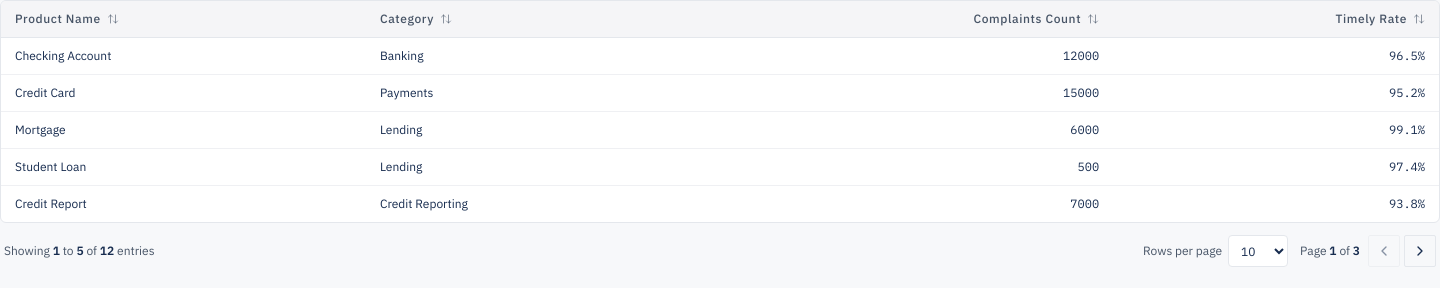
Day 4: DataTable Component › handles pagination navigation and disables buttons at boundaries
expect the button named "Go to previous page" is disabled: met, box [1368, 235, 1400, 267]
expect the element with test id "table-pagination-summary" reads "Showing 1 to 5 of 12 entries": met, box [4, 243, 154, 259]
# Go to page 2
Click the button named "Go to next page" at (1420, 251), box [1404, 235, 1436, 267]
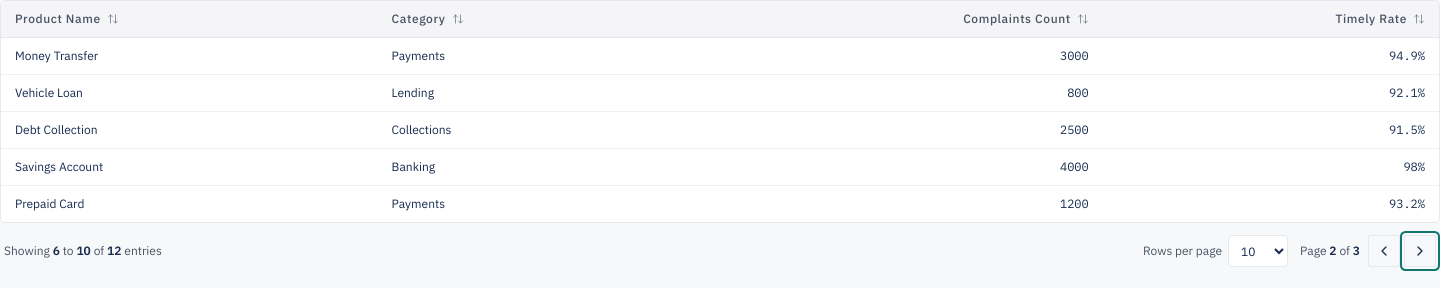
expect the button named "Go to previous page" is enabled: met, box [1368, 235, 1400, 267]
expect the element with test id "table-pagination-summary" reads "Showing 6 to 10 of 12 entries": met, box [4, 243, 162, 259]
expect the text "Money Transfer" is shown: met, box [1, 38, 378, 74]
# Go to page 3 (last page with 2 records)
Click the button named "Go to next page" at (1420, 251), box [1404, 235, 1436, 267]
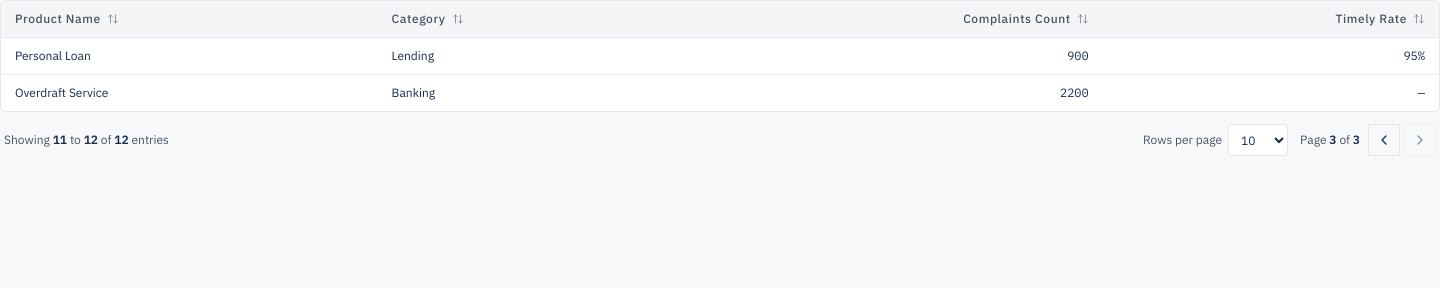
expect the button named "Go to previous page" is enabled: met
expect the button named "Go to next page" is disabled: met, box [1404, 124, 1436, 156]
expect the element with test id "table-pagination-summary" reads "Showing 11 to 12 of 12 entries": met, box [4, 132, 169, 148]
# Go back to page 2
Click the button named "Go to previous page" at (1384, 140), box [1368, 124, 1400, 156]
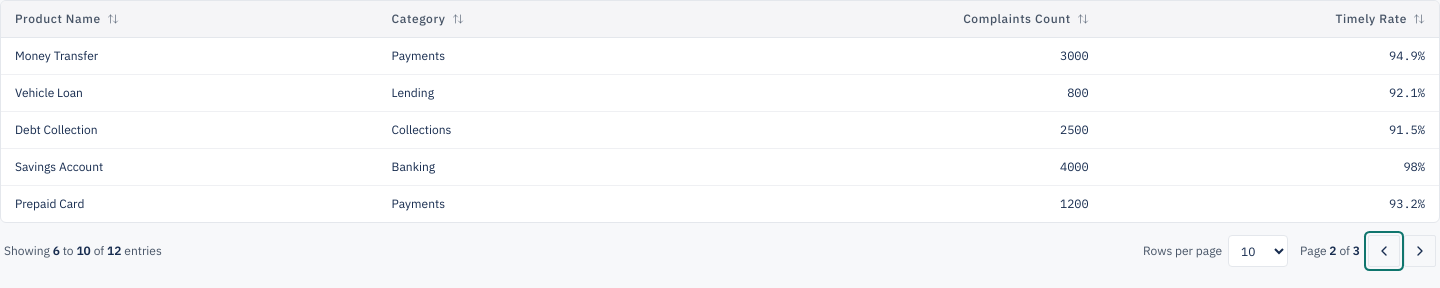
expect the element with test id "table-pagination-summary" reads "Showing 6 to 10 of 12 entries": met, box [4, 243, 162, 259]
